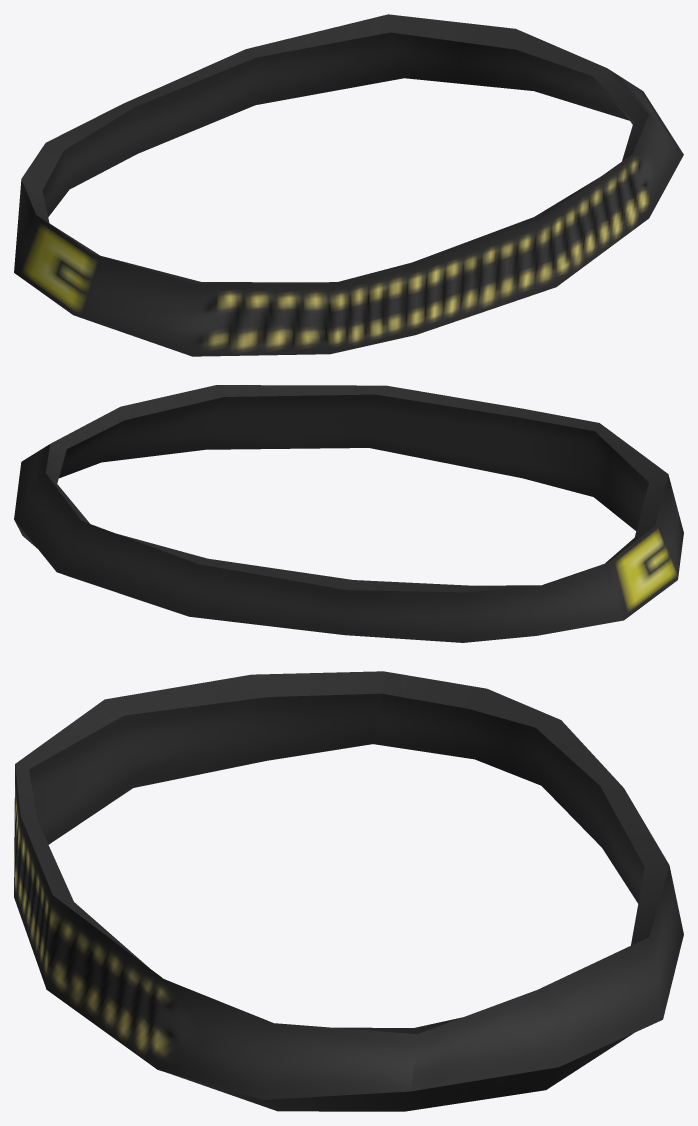
The model's file is AmmoStrap.fbx.
The picture shows the model from 3 angles, top to bottom: view 1: azimuth 30°, elevation 25°; view 2: azimuth 150°, elevation 25°; view 3: azimuth 270°, elevation 25°; orthographic projection. The views are drawn at different scales.
Parts seen in each view (by area): view 1: AmmoStrap; view 2: AmmoStrap; view 3: AmmoStrap.
Boxes of the visible parts, x1,y1,x2,y2 form: AmmoStrap: (14, 14, 683, 356); AmmoStrap: (14, 385, 683, 642); AmmoStrap: (14, 671, 683, 1111).
Size of the model in its own units: 0.7584 by 0.0909 by 0.5536.
